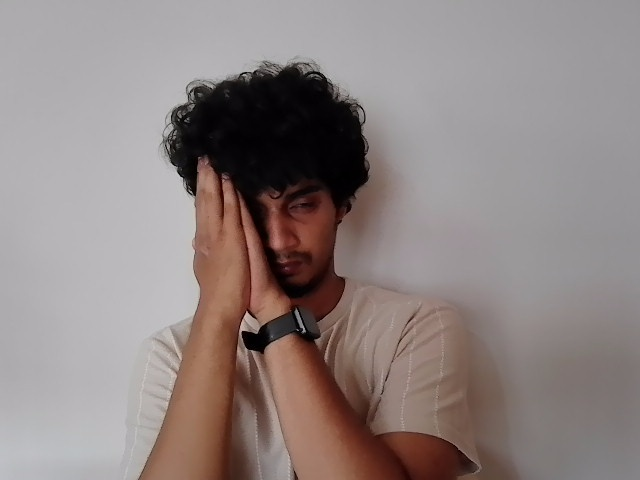sleep: (191, 157, 285, 308)
